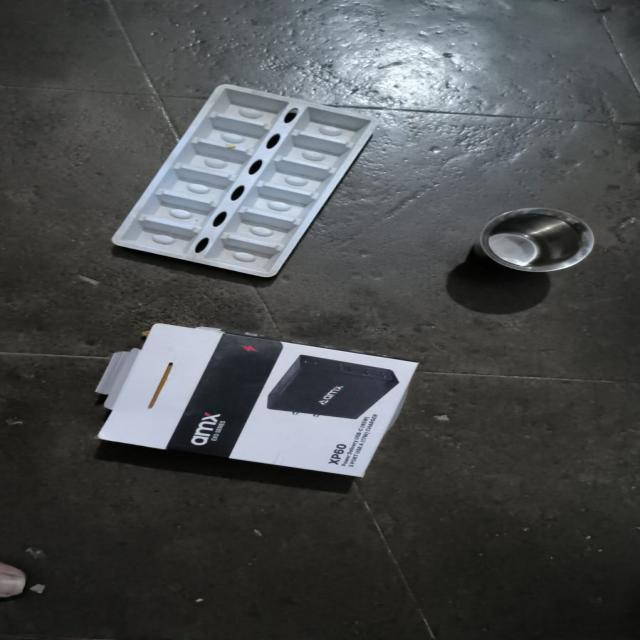metal: (36, 326, 482, 494), (430, 194, 608, 288)
plastic: (74, 76, 389, 292)
